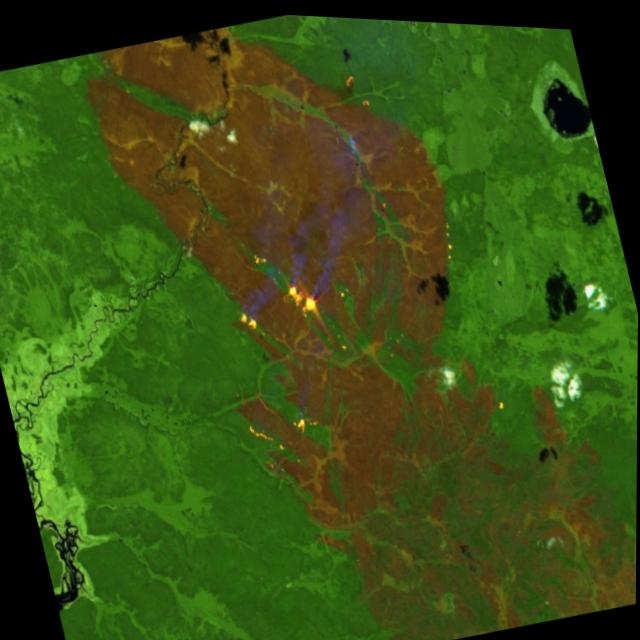fire: (240, 388, 334, 475), (279, 262, 323, 328), (231, 296, 267, 341)
